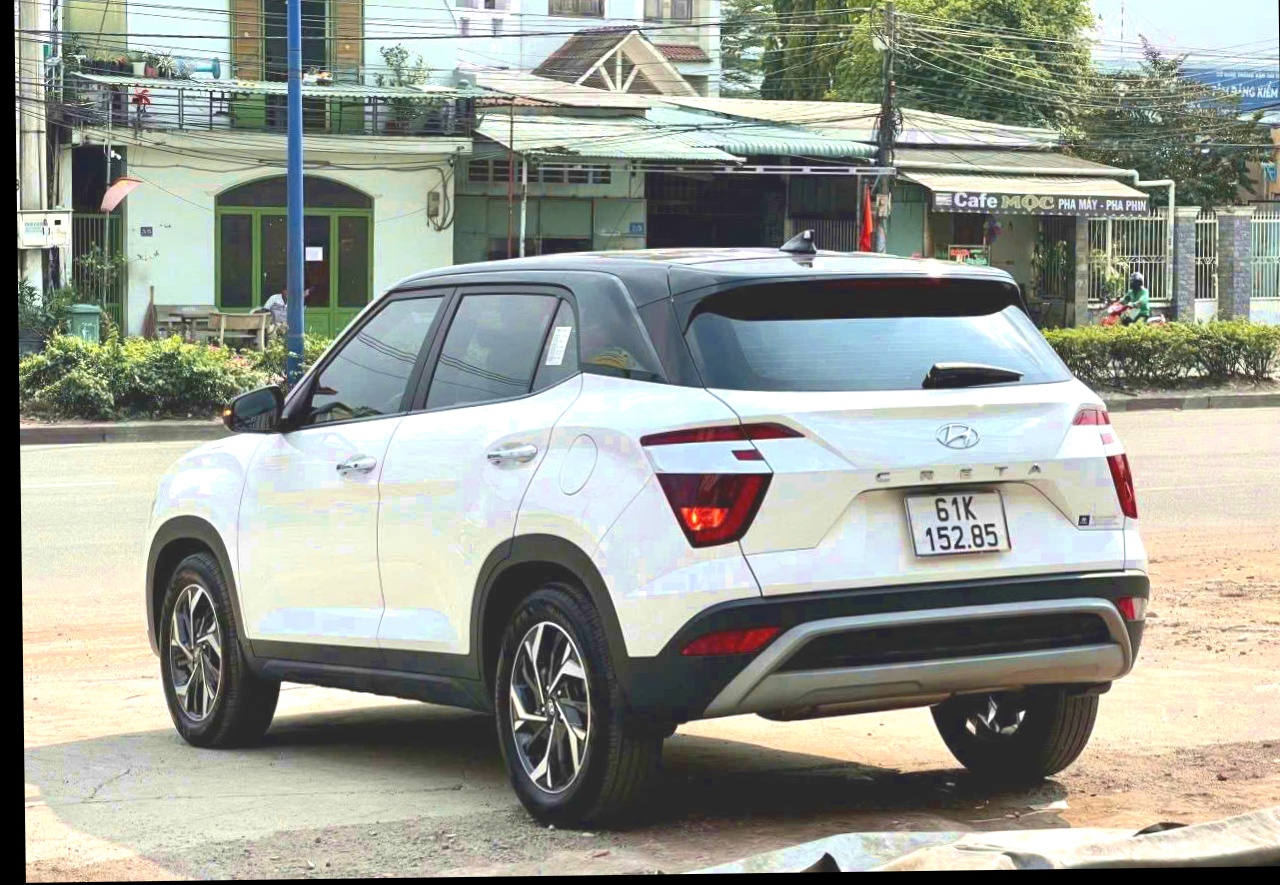Bien-so: (846, 498, 955, 578)
